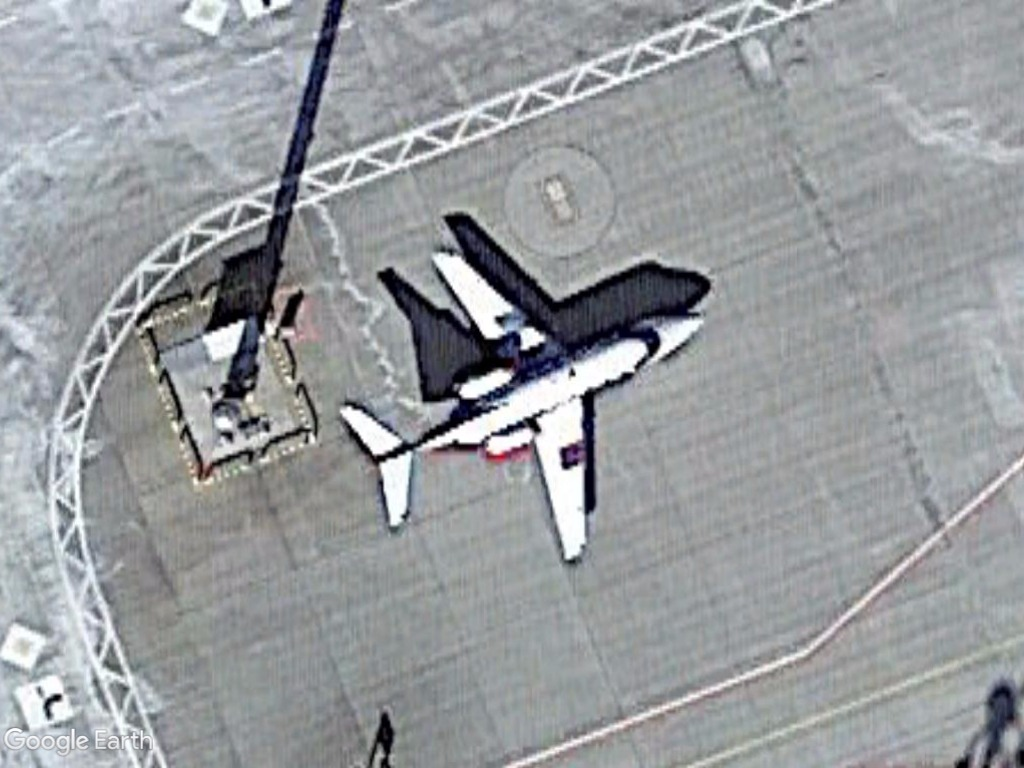chartered: (343, 249, 717, 576)
